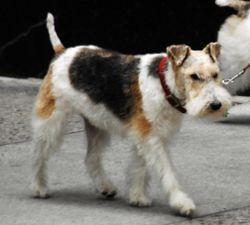wire-haired_fox_terrier: (30, 12, 228, 217)
